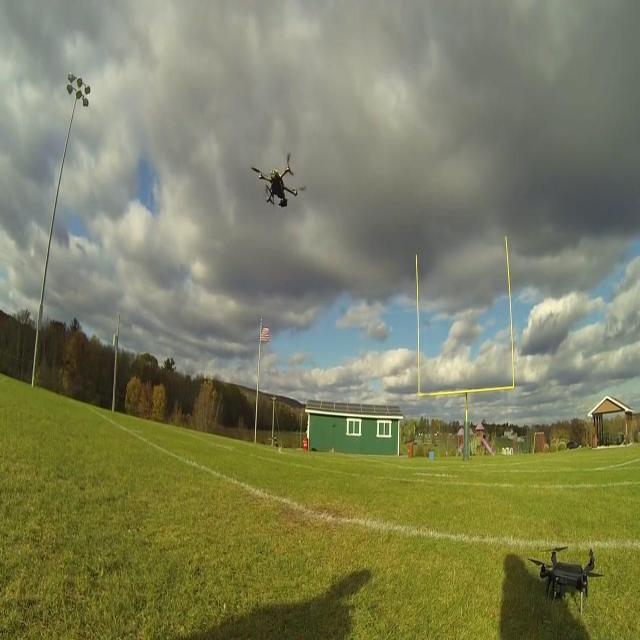UAV: (528, 546, 604, 618), (251, 153, 306, 208)
